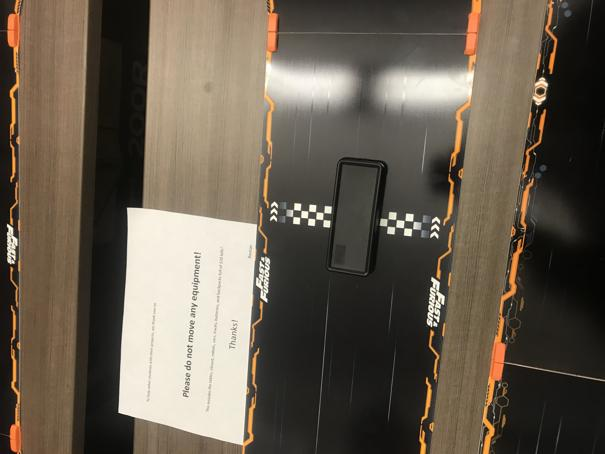Finish Line: (271, 202, 441, 243)
